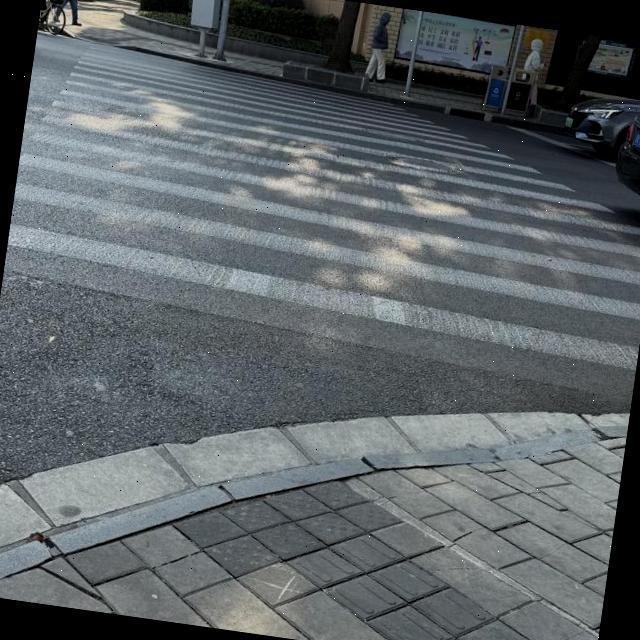curb: (0, 425, 627, 581), (117, 45, 558, 129), (225, 35, 326, 67), (121, 14, 199, 43), (205, 32, 217, 47)
